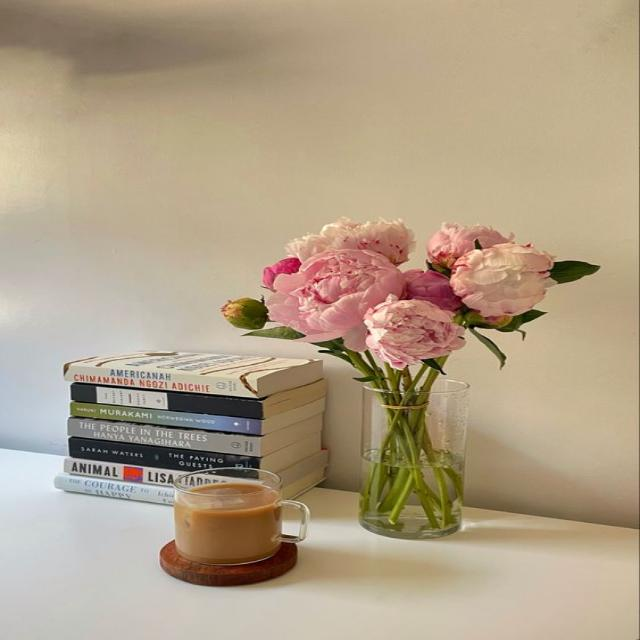book: (69, 415, 322, 457), (70, 383, 279, 419), (70, 401, 280, 436), (63, 362, 260, 394), (69, 439, 260, 471), (56, 475, 174, 503), (64, 459, 184, 486)
flowers: (223, 220, 598, 538)
